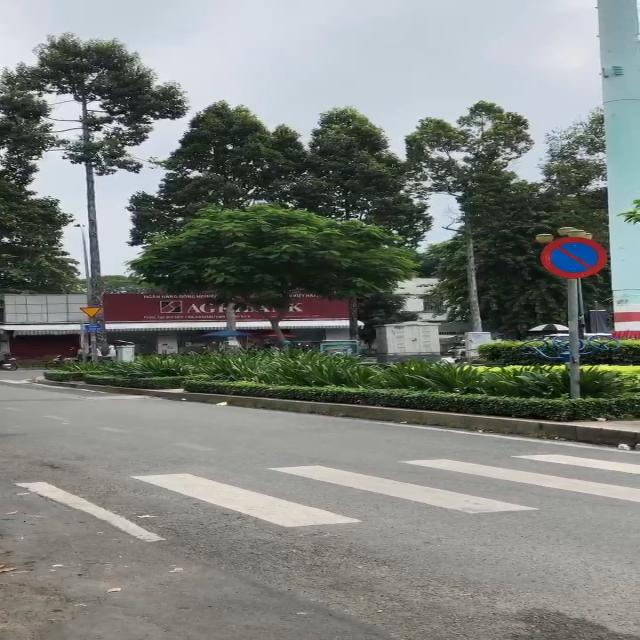Bien bao cam do xe: (534, 235, 617, 282)
Bien bao giao nhau voi duong uu tien: (77, 306, 106, 319)
